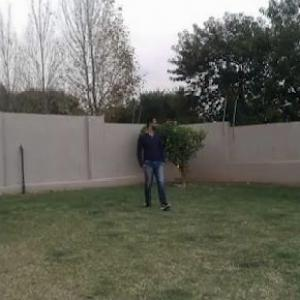follow: (142, 116, 168, 212)
